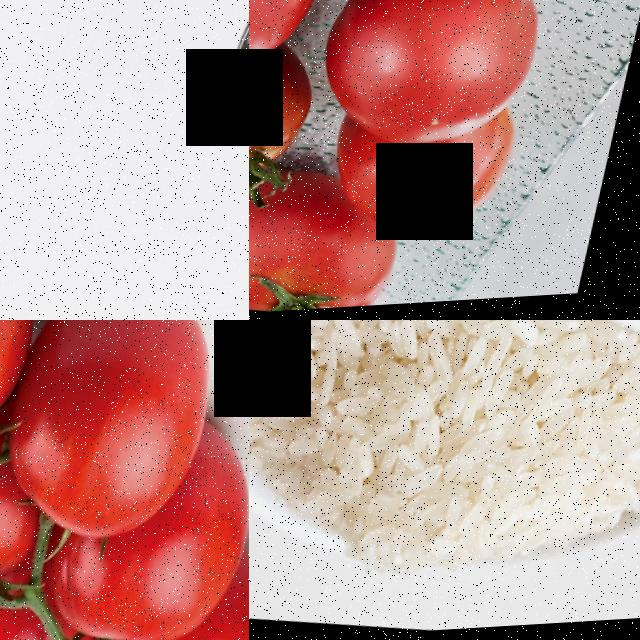tomato: (0, 320, 240, 557), (314, 0, 563, 165), (249, 42, 333, 227)
white rice: (249, 320, 640, 621)
